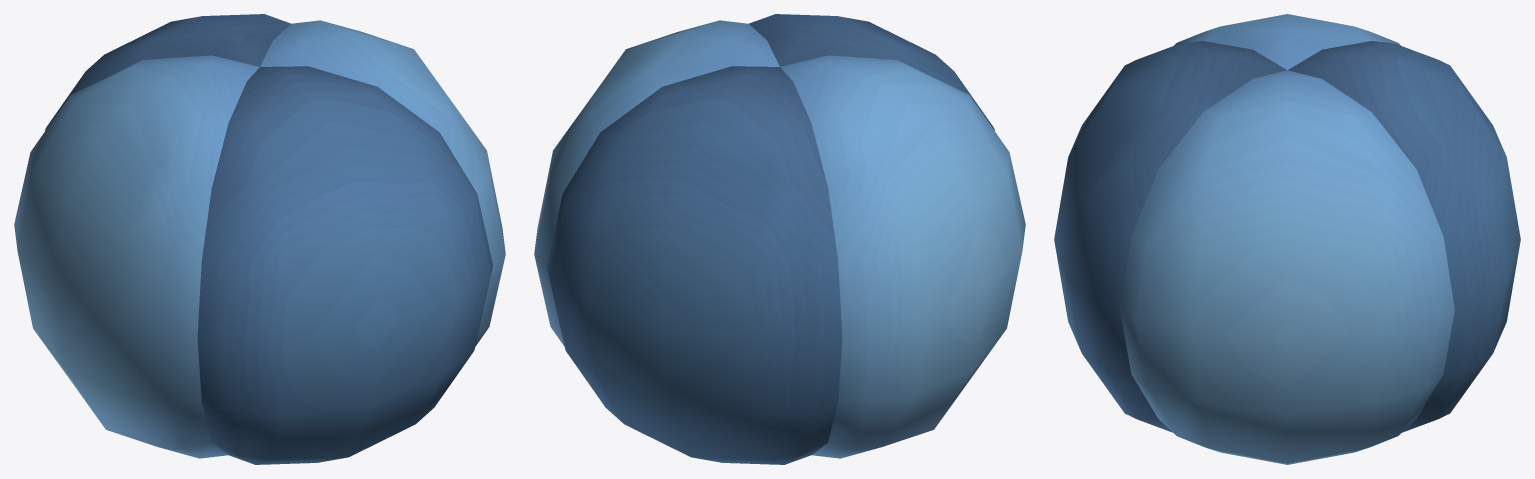
File: CharSkyKid_Prop_AP18Ball.glb
The picture shows the model from 3 angles, left to right: view 1: azimuth 30°, elevation 25°; view 2: azimuth 150°, elevation 25°; view 3: azimuth 270°, elevation 25°; orthographic projection.
Visible parts, largest first — view 1: CharSkyKid_Prop_AP18Ball; view 2: CharSkyKid_Prop_AP18Ball; view 3: CharSkyKid_Prop_AP18Ball.
Boxes of the visible parts, x1,y1,x2,y2 form: CharSkyKid_Prop_AP18Ball: (14,14,505,464); CharSkyKid_Prop_AP18Ball: (534,14,1025,464); CharSkyKid_Prop_AP18Ball: (1054,14,1520,464).
Bounding box in the file's own units: 1.7 × 1.48 × 1.7.
1 material, 1 textured.
